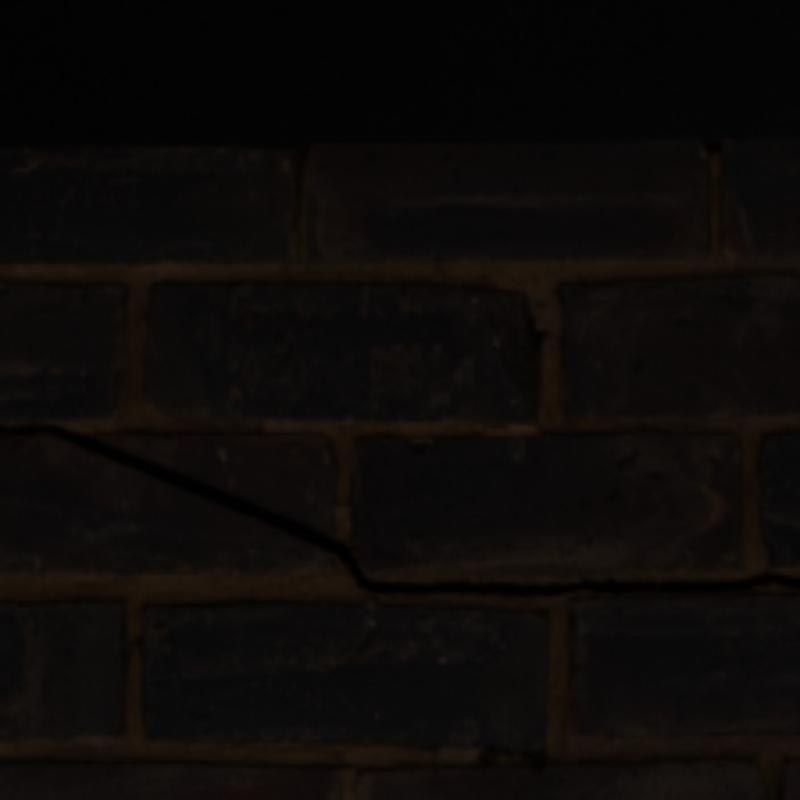crack: (0, 421, 796, 593)
